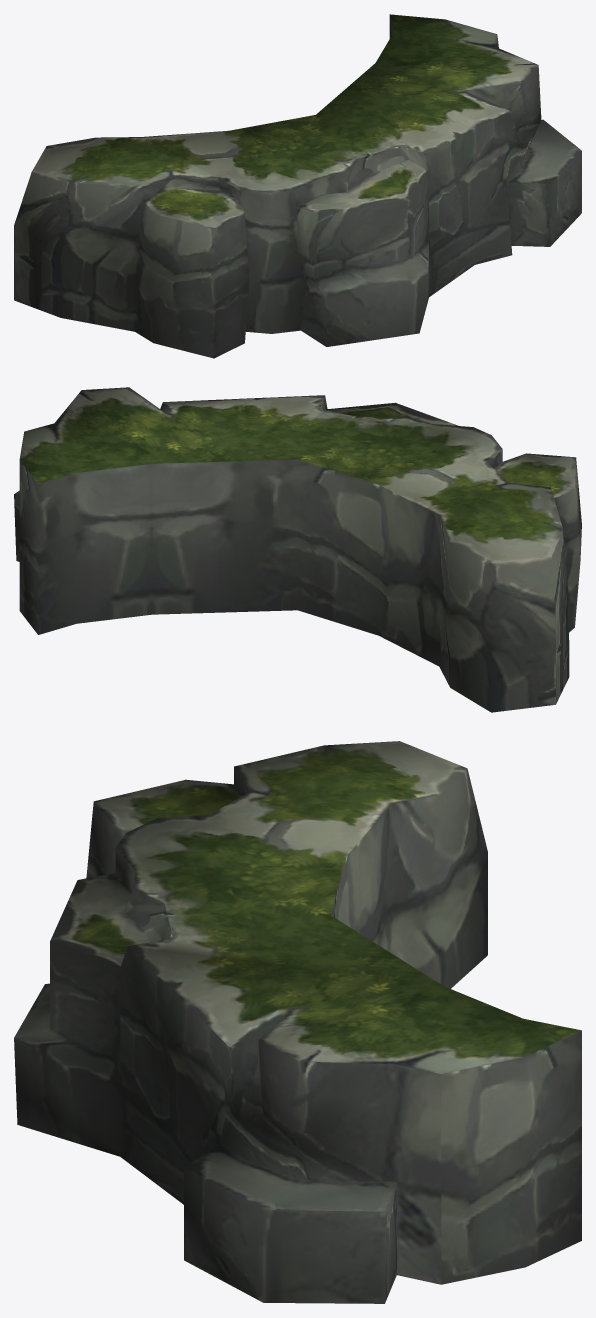
Rendered from Battle01_DuoBaoQiBingRock_01.FBX.
3 renders of one model, top to bottom at view 1: azimuth 30°, elevation 25°; view 2: azimuth 150°, elevation 25°; view 3: azimuth 270°, elevation 25°, orthographic. The views are drawn at different scales.
Parts seen in each view (by area): view 1: Battle01_DuoBaoQiBingRock_01; view 2: Battle01_DuoBaoQiBingRock_01; view 3: Battle01_DuoBaoQiBingRock_01.
Part boxes in pixels (<box>): Battle01_DuoBaoQiBingRock_01: <box>14,14,581,358</box>; Battle01_DuoBaoQiBingRock_01: <box>14,387,581,712</box>; Battle01_DuoBaoQiBingRock_01: <box>14,741,581,1303</box>.
Size of the model in its own units: 19.28 by 5.22 by 12.28.
